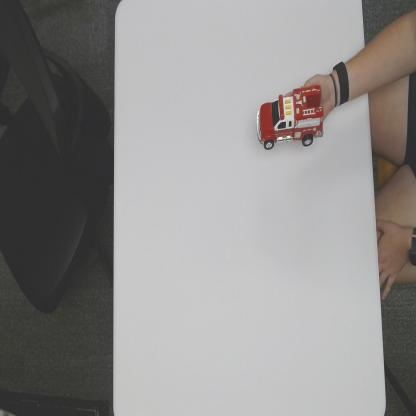Firetruck: (256, 86, 324, 150)
